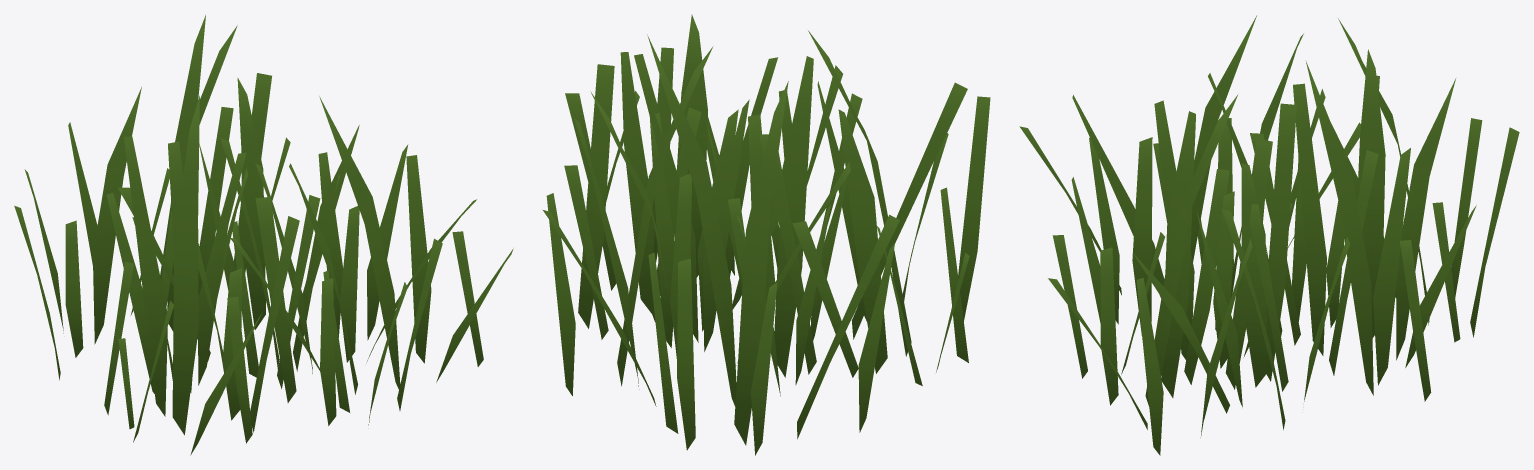
File: SM_Grass_01.fbx
3 views of the same model, side by side, from view 1: azimuth 30°, elevation 25°; view 2: azimuth 150°, elevation 25°; view 3: azimuth 270°, elevation 25° (orthographic). The views are drawn at different scales.
Parts seen in each view (by area): view 1: SM_Grass_01; view 2: SM_Grass_01; view 3: SM_Grass_01.
Part boxes in pixels (x1,y1,x2,y2): SM_Grass_01: [14, 15, 513, 455]; SM_Grass_01: [543, 14, 990, 455]; SM_Grass_01: [1019, 15, 1519, 455].
Size of the model in its own units: 101 by 112 by 83.25.
Materials: 1 (1 with a texture image).
